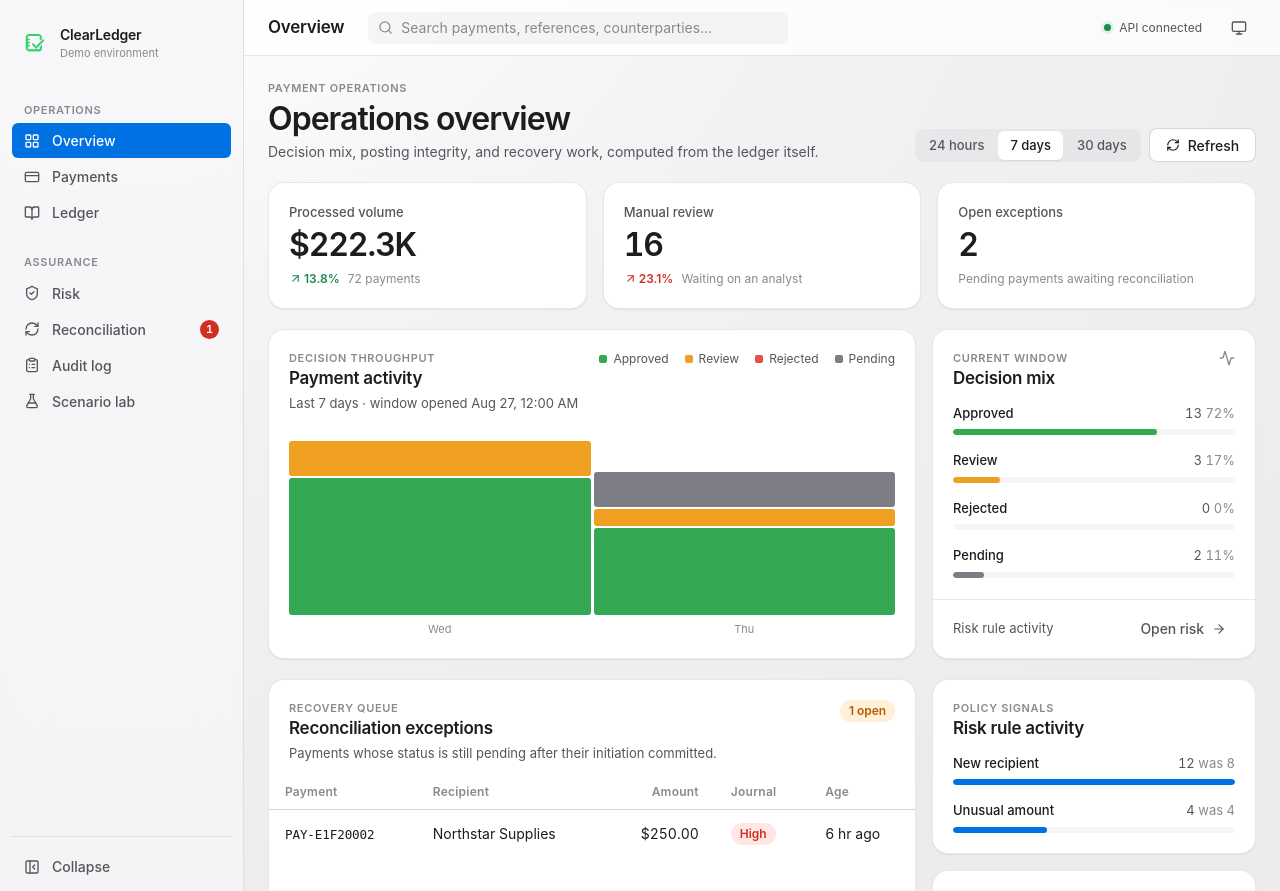
Test case: operations console › navigates to payments and lists records from the server
Click the button "Payments". click: (122, 176)
box: [12,159,231,194]
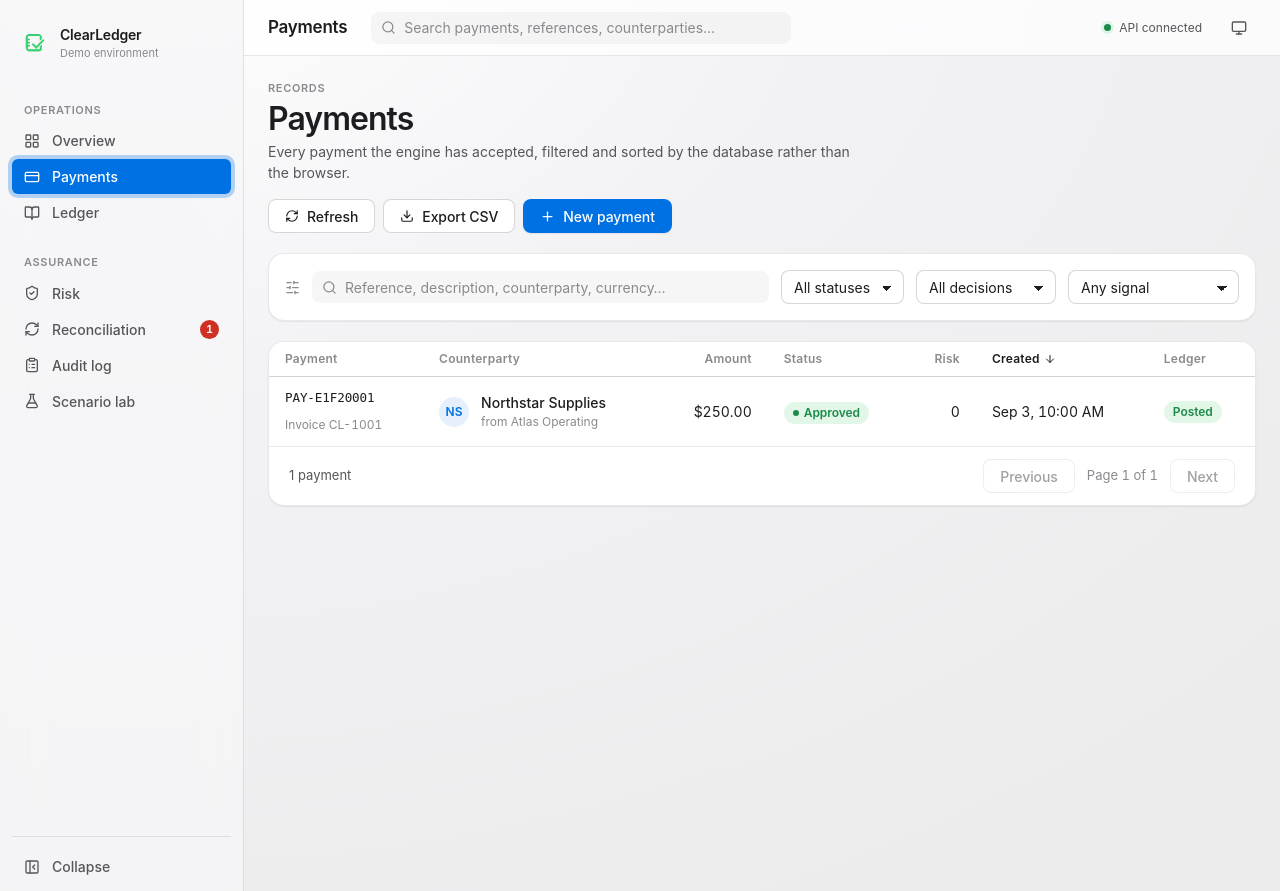
Expected: the text "Northstar Supplies" is shown, [481,392,606,413]
Now the heading "Payments" is shown, box [268,98,413,138]
Now the text "PAY-E1F20001" is shown, box [285,390,374,405]
